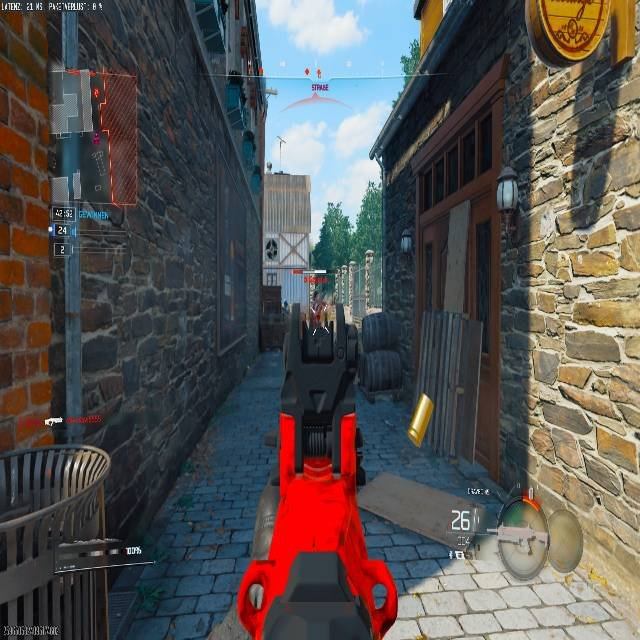player: (303, 284, 334, 341), (309, 290, 320, 319), (266, 239, 277, 258)
